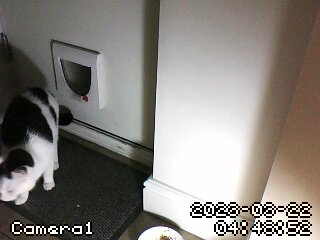bad: (1, 83, 63, 211)
